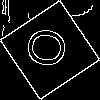O: (25, 25, 77, 72)
